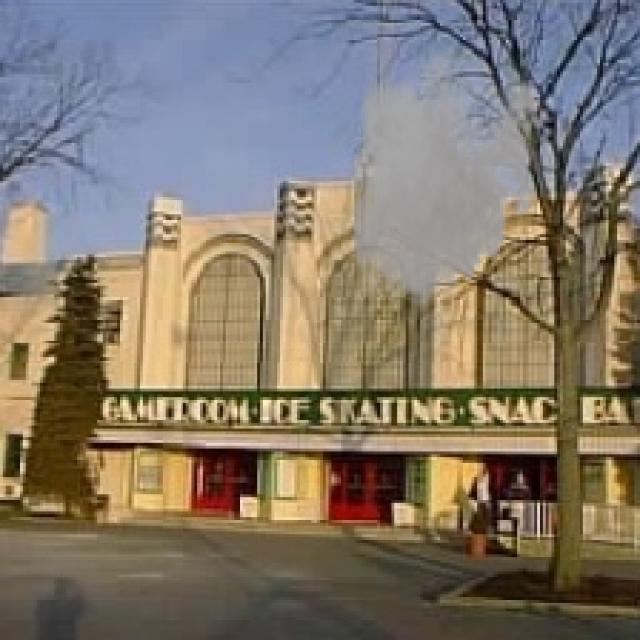Smoke: (343, 34, 546, 317)
